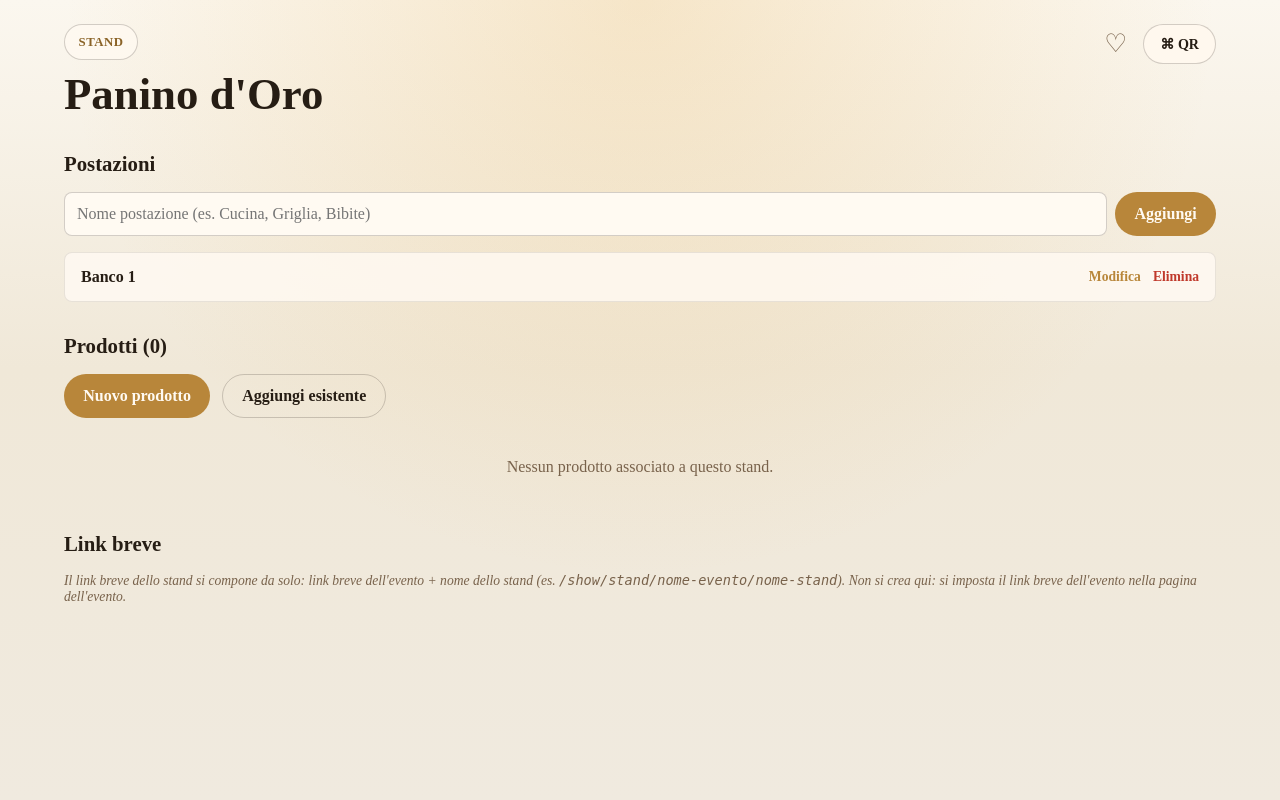
Test: pagina dello stand — i due moduli prodotto › senza evento attivo non si puo' associare, e si dice perche'
expect the heading "Panino d'Oro" is shown: met, box [64,68,323,120]
Click the button "Aggiungi esistente" at x=304, y=396, box [222,374,386,418]
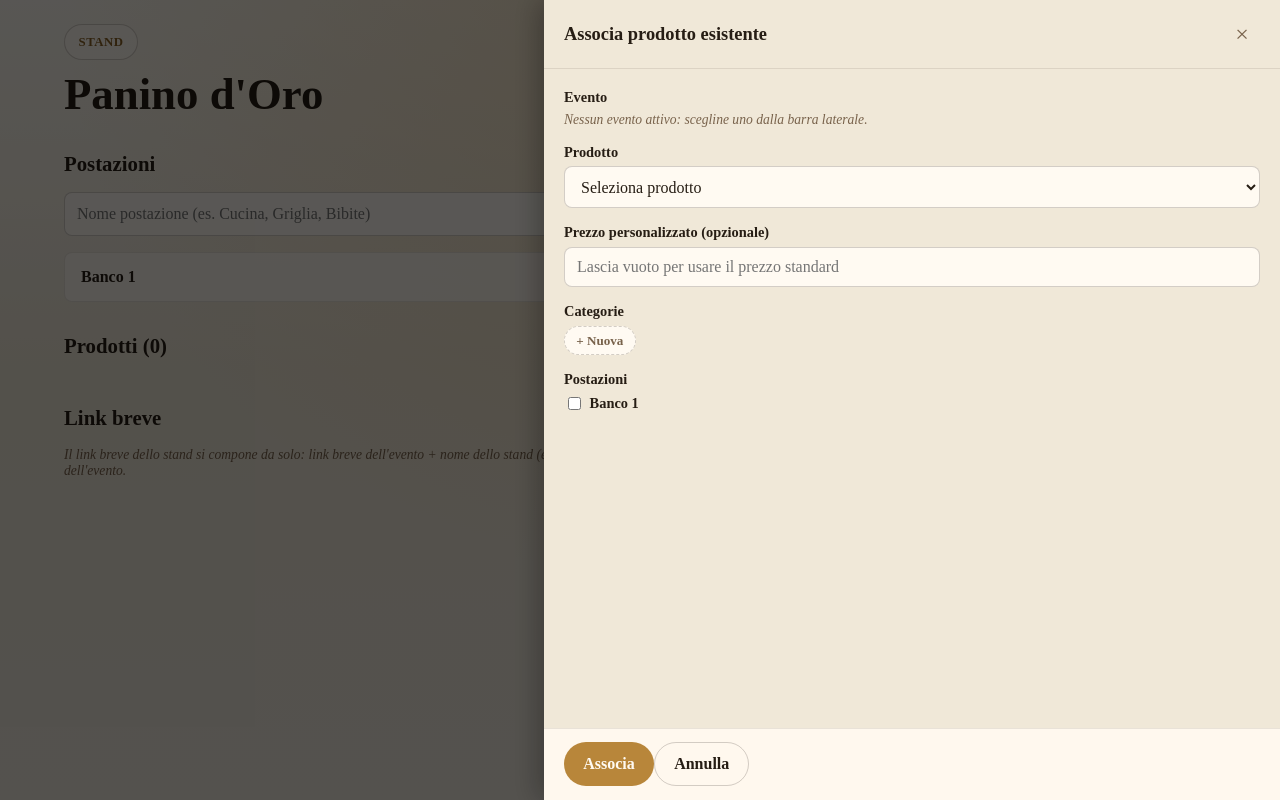
expect the text "Nessun evento attivo: scegline uno dalla barra laterale." is shown: met, box [564,112,868,127]
expect the button "Associa" is disabled: met, box [564,742,654,786]
